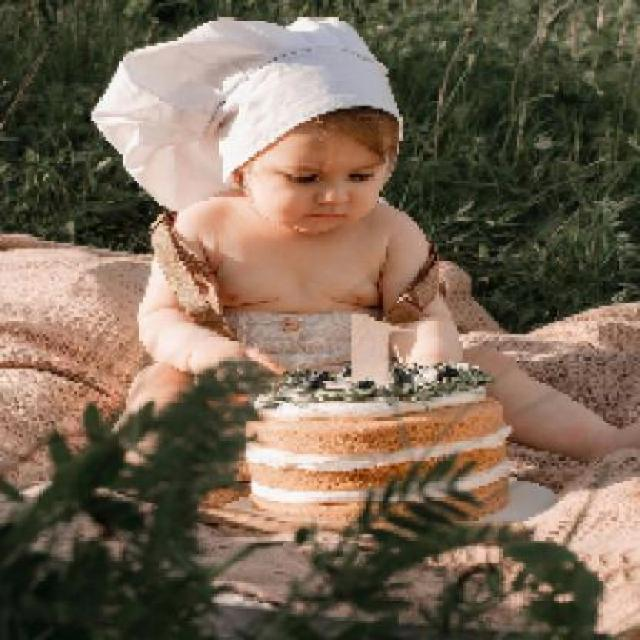child: (83, 17, 640, 472)
